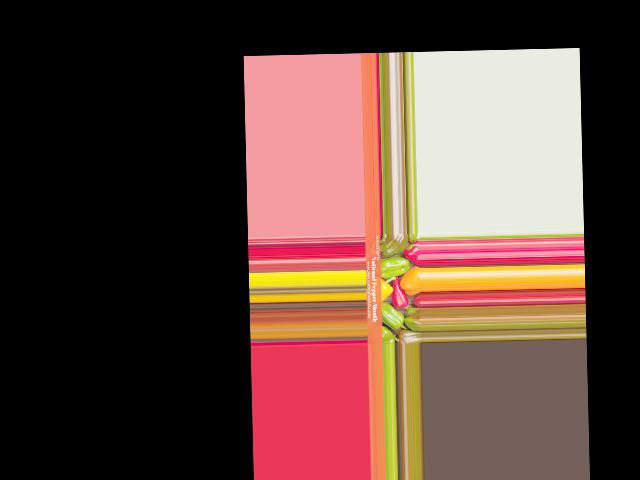bell_pepper: (379, 233, 408, 255)
